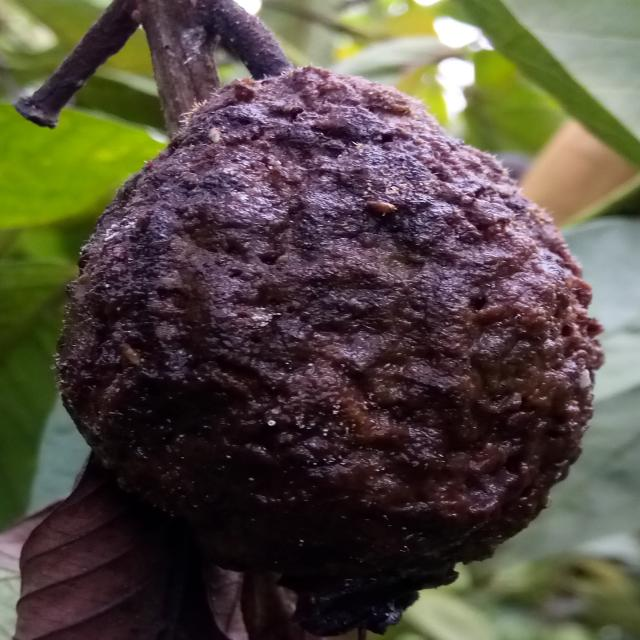Phytopthora: (58, 68, 602, 582)
